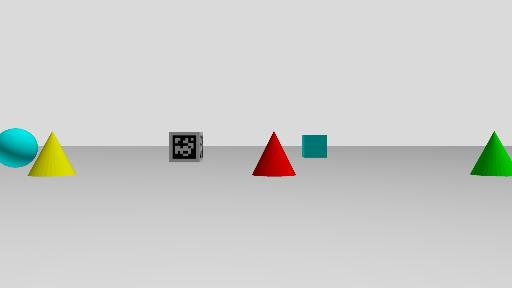green_cone: (469, 131, 511, 176)
red_cone: (251, 131, 296, 177)
yellow_cone: (26, 131, 77, 177)
